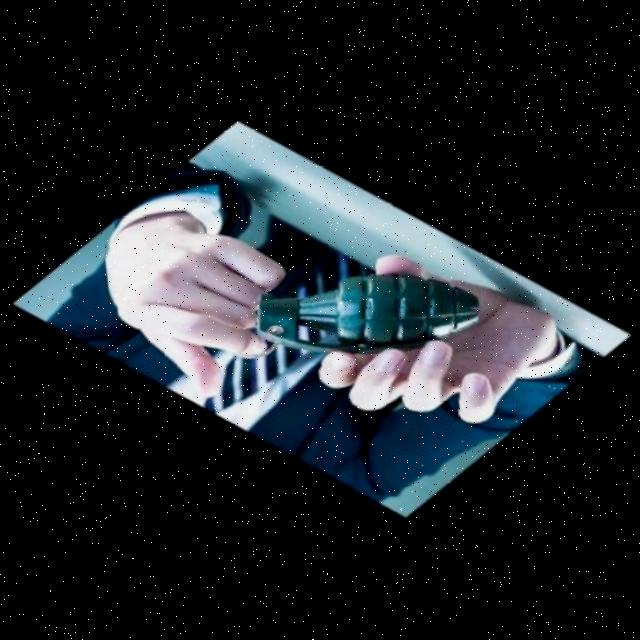grenade: (241, 255, 486, 365)
